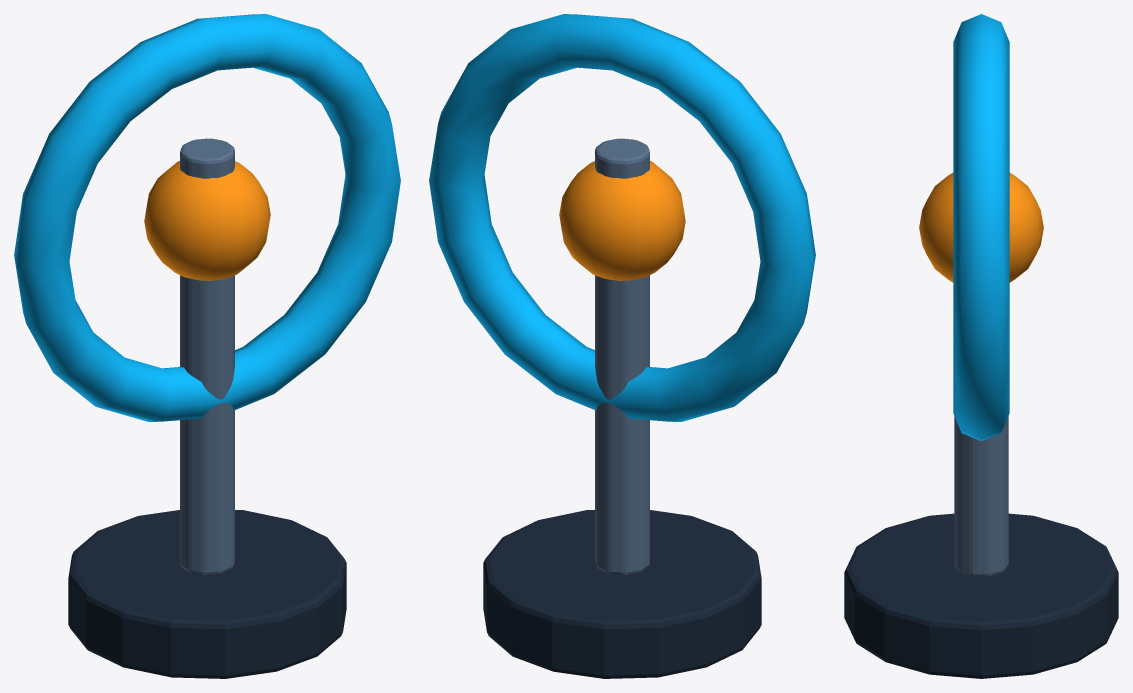
File: checkpoint.obj
The picture shows the model from 3 angles, left to right: view 1: azimuth 30°, elevation 25°; view 2: azimuth 150°, elevation 25°; view 3: azimuth 270°, elevation 25°; orthographic projection. The views are drawn at different scales.
Visible parts, largest first — view 1: checkpoint_ring_M_cyan, checkpoint_base_M_gunmetal, checkpoint_pole_M_steel, checkpoint_core_M_gold; view 2: checkpoint_ring_M_cyan, checkpoint_base_M_gunmetal, checkpoint_pole_M_steel, checkpoint_core_M_gold; view 3: checkpoint_base_M_gunmetal, checkpoint_ring_M_cyan, checkpoint_pole_M_steel, checkpoint_core_M_gold.
Part boxes in pixels (x1,y1,x2,y2): checkpoint_ring_M_cyan: (14, 14, 400, 421); checkpoint_base_M_gunmetal: (68, 510, 346, 678); checkpoint_pole_M_steel: (180, 138, 234, 574); checkpoint_core_M_gold: (144, 161, 270, 280); checkpoint_ring_M_cyan: (429, 14, 815, 421); checkpoint_base_M_gunmetal: (483, 510, 761, 678); checkpoint_pole_M_steel: (595, 138, 649, 574); checkpoint_core_M_gold: (559, 161, 685, 280); checkpoint_base_M_gunmetal: (844, 513, 1118, 678); checkpoint_ring_M_cyan: (953, 14, 1009, 440); checkpoint_pole_M_steel: (954, 416, 1008, 576); checkpoint_core_M_gold: (919, 172, 1043, 282).
Bounding box in the file's own units: 0.69 × 1.04 × 0.44.
